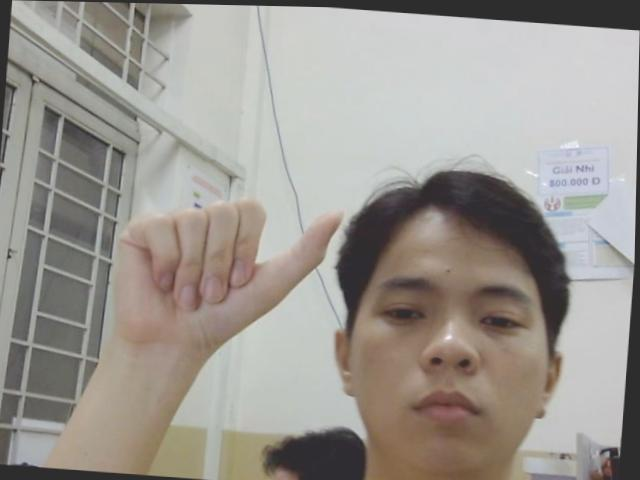A: (102, 180, 354, 346)
